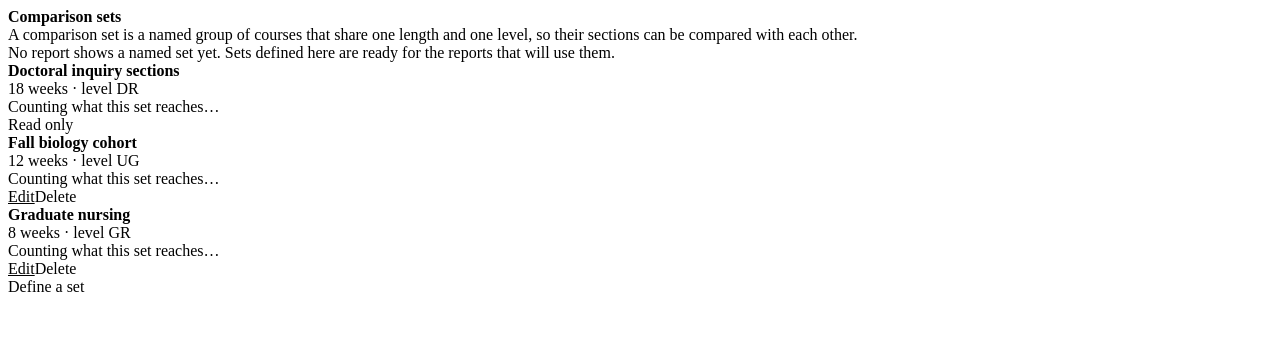
Scenario: deleting a set › deletes nothing when the confirmation is declined
The image size is (1280, 345).
Check: the list with test id "pulse-leadership-set-list" is shown, box x1=8 y1=62 x2=220 y2=278
Click the button "Delete" below "Fall biology cohort": (56, 197) x1=35 y1=188 x2=76 y2=206
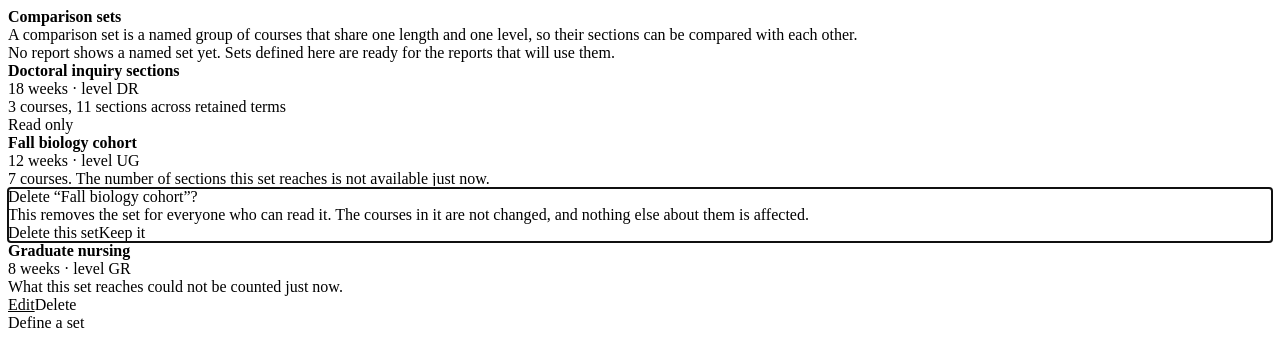
Click the button "Keep it": (122, 233) x1=99 y1=224 x2=145 y2=242
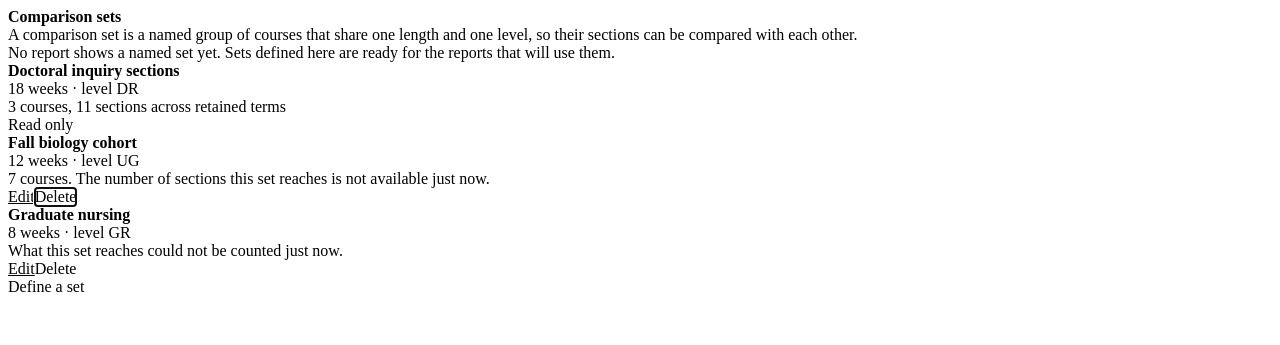
Check: the list item that starts with "Fall biology cohort" is shown, box x1=8 y1=134 x2=490 y2=206
Check: the element with test id "pulse-leadership-set-delete-confirm" is gone
